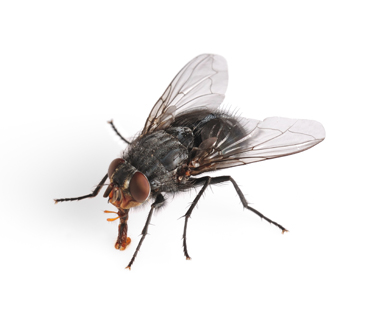phorid fly: (46, 42, 340, 279)
